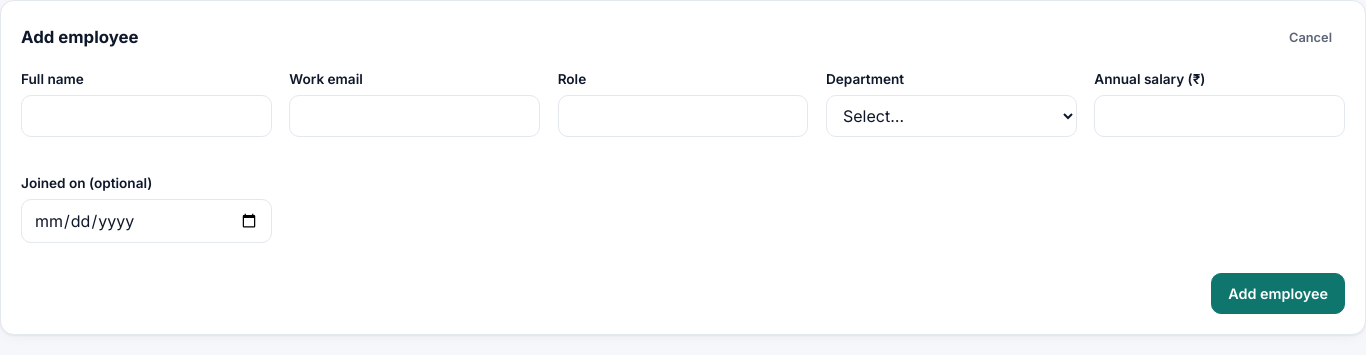
Test case: EmployeeForm › rejects a future joining date and a negative salary
In the field labelled "Full name": (146, 116) [21,95,272,137], type "  Asha Rao "
In the field labelled "Work email": (415, 116) [289,95,540,137], type "asha.rao@teamdesk.dev"
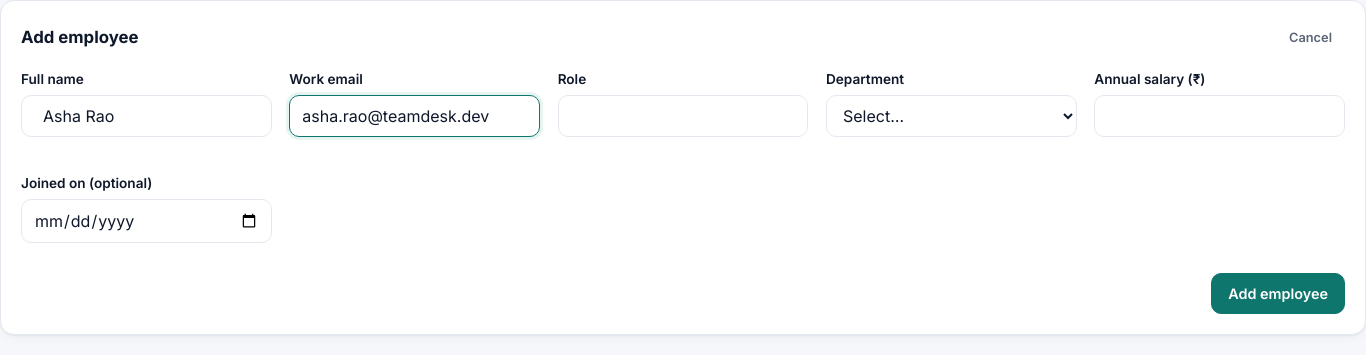
In the field labelled "Role": (683, 116) [558,95,808,137], type "Backend Engineer"
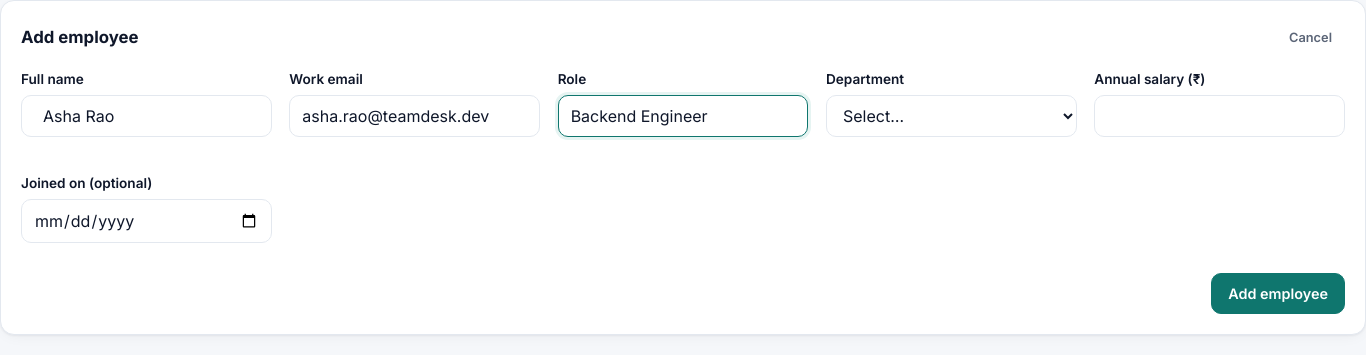
Select "Design" in the dropdown labelled "Department": (951, 116) [826,95,1077,137]
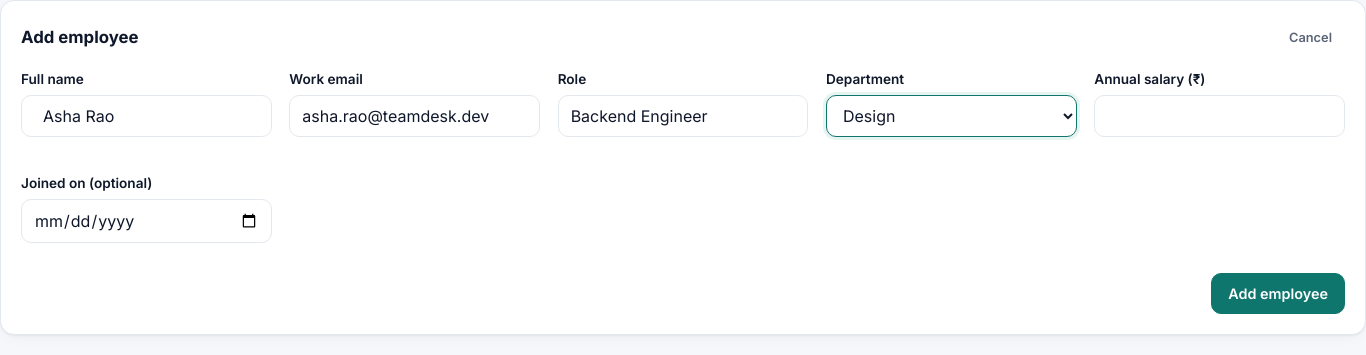
In the number field labelled "Annual salary (₹)": (1220, 116) [1094,95,1345,137], type "1450000"
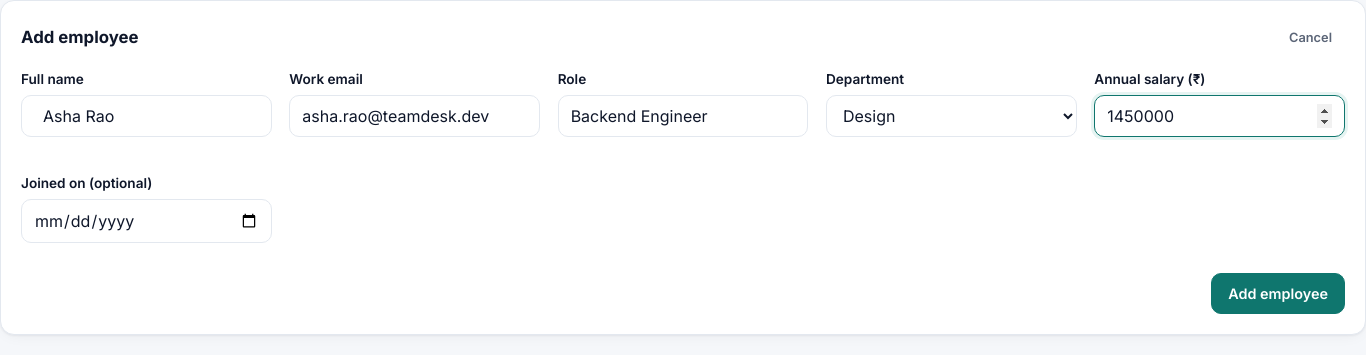
Replace the text in the number field labelled "Annual salary (₹)" with "-5": (1220, 116) [1094,95,1345,137]
In the date field labelled "Joined on (optional)": (146, 220) [21,198,272,242], type "2030-01-01"
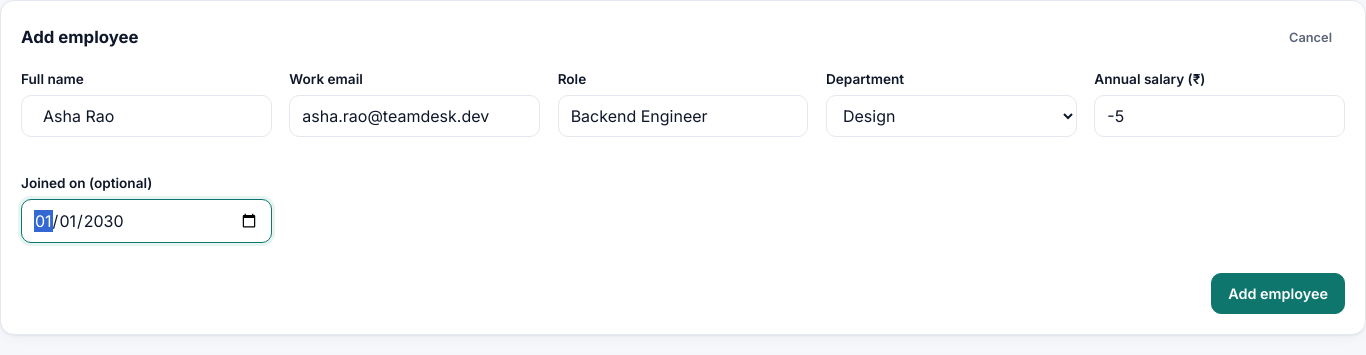
Click the button "Add employee": (1278, 294) [1211,273,1345,314]
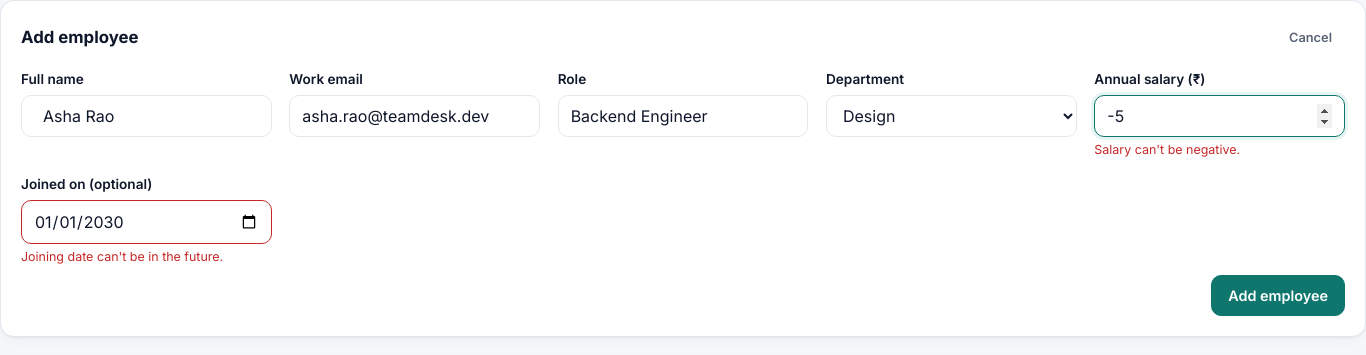
Check: the text "Salary can't be negative." is shown, box [1094,142,1240,157]
Check: the text "Joining date can't be in the future." is shown, box [21,250,223,264]
